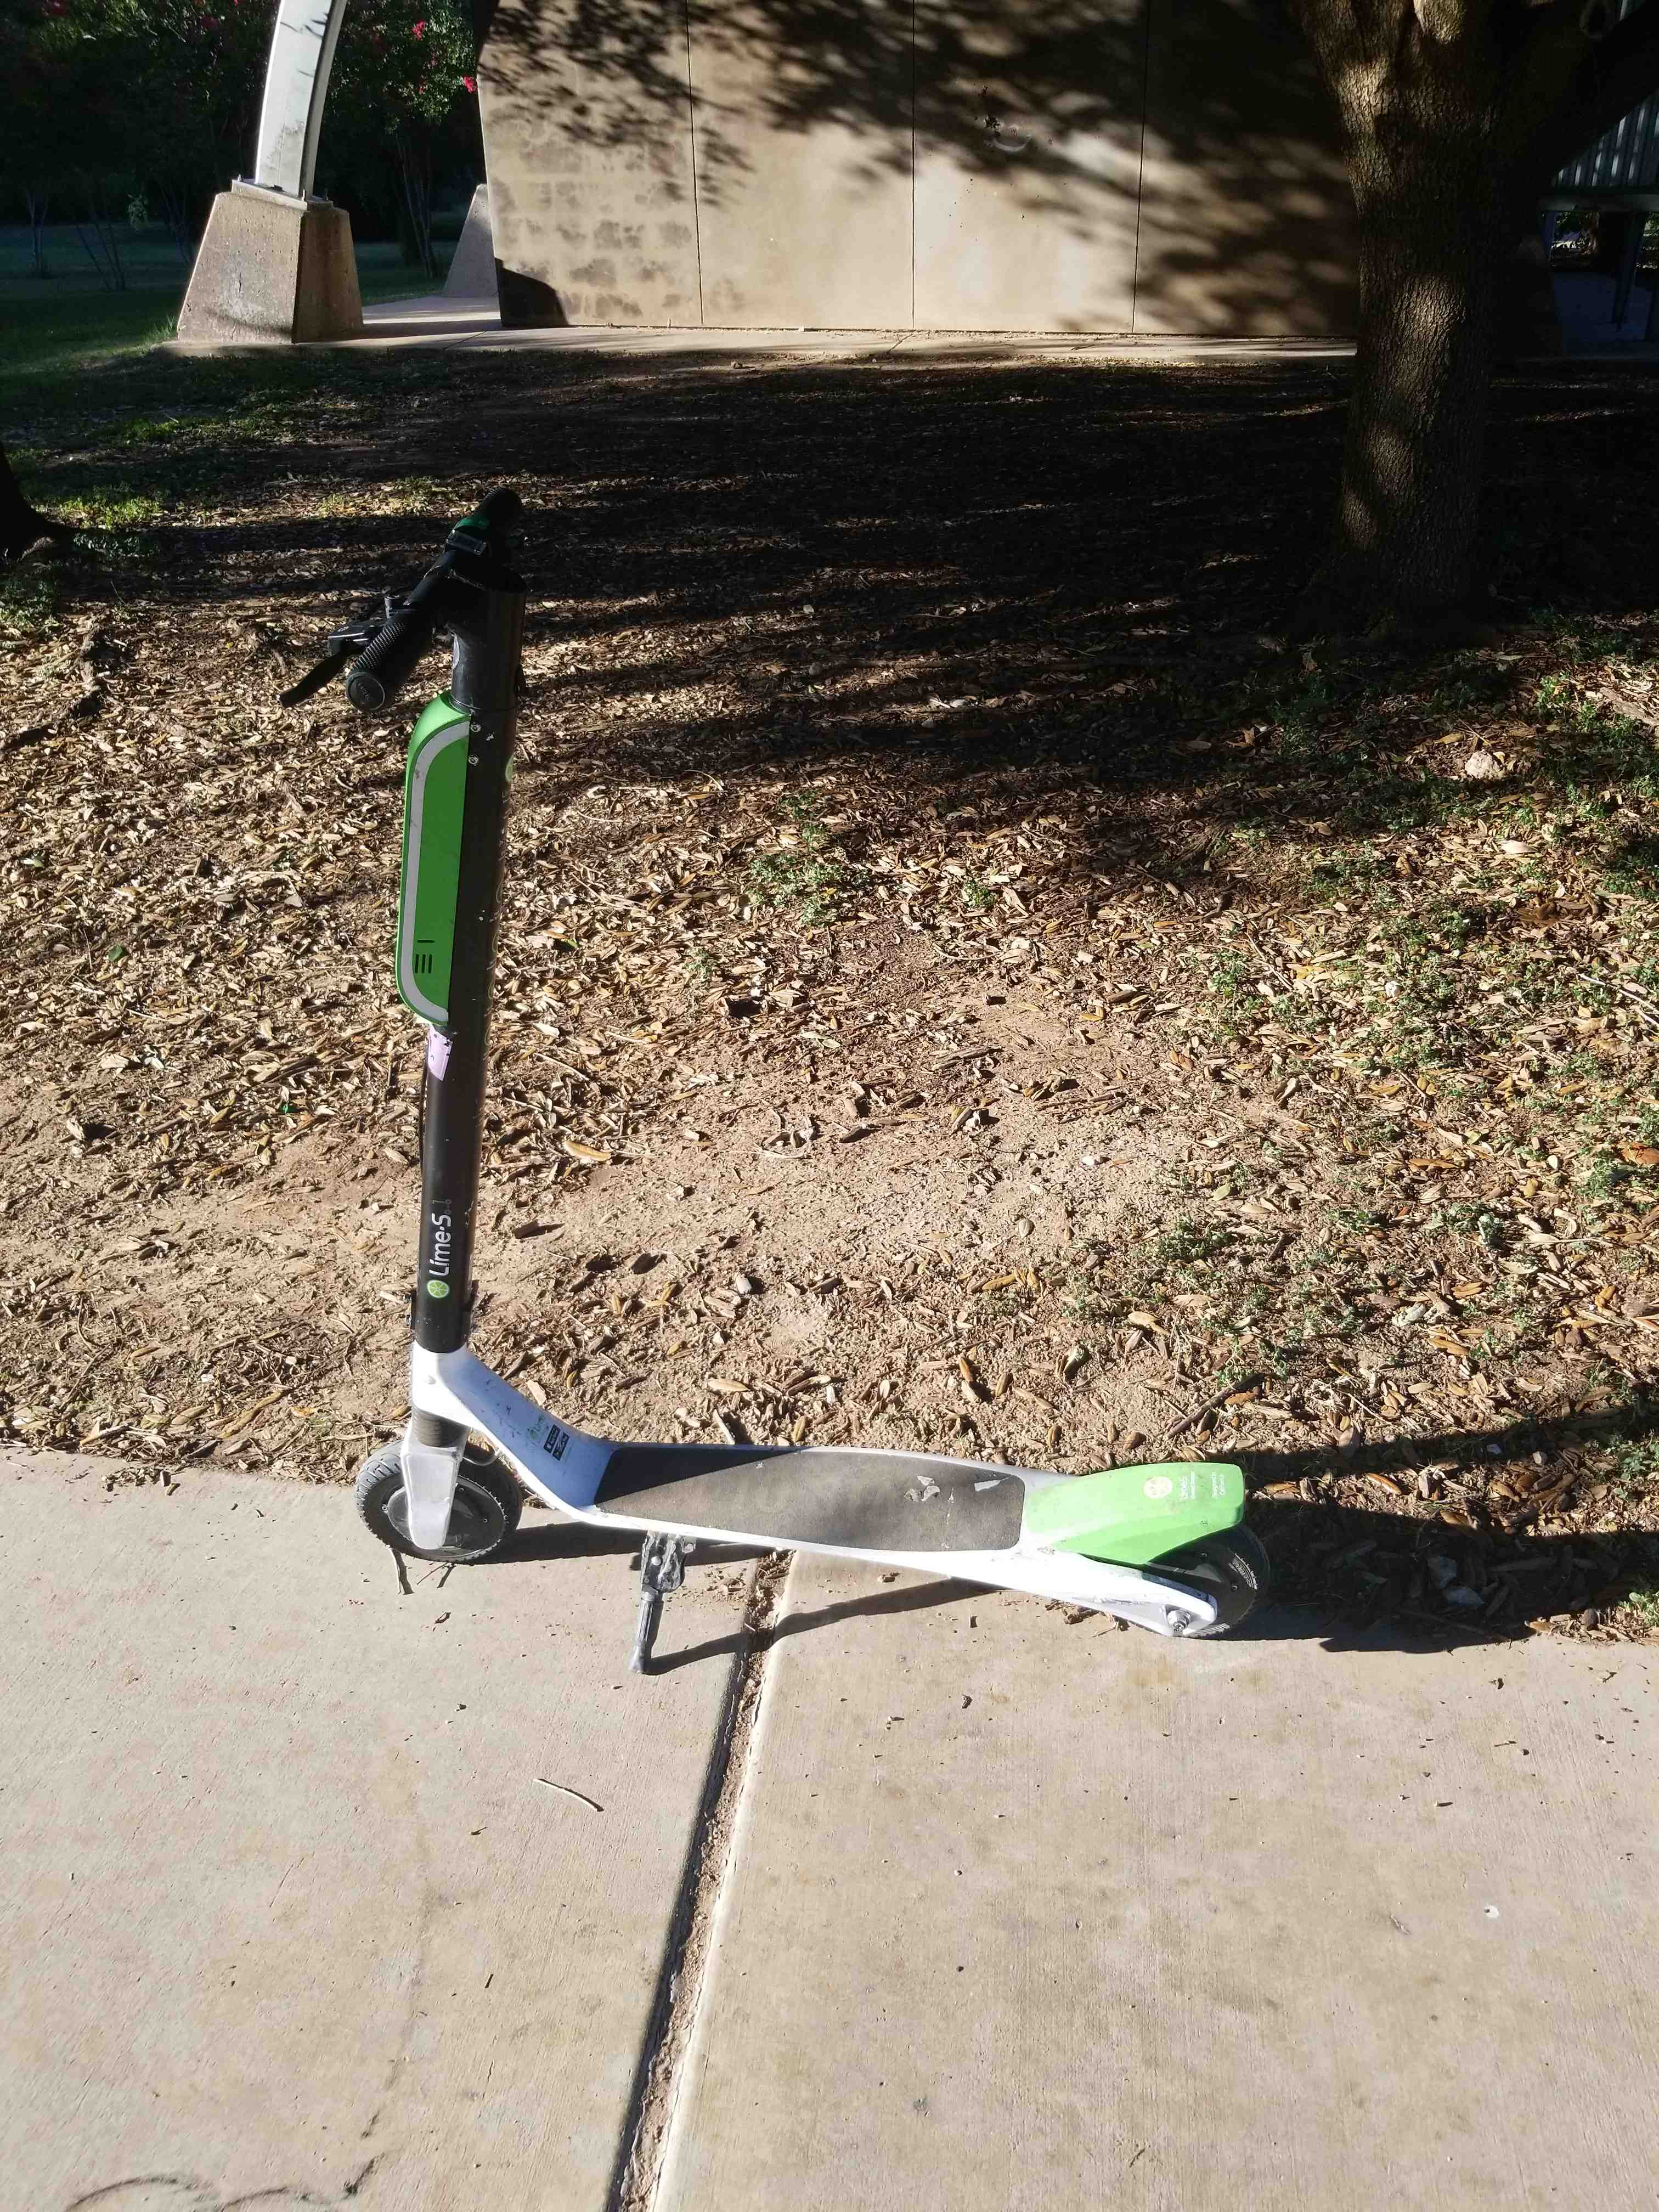scooter: (251, 404, 1330, 1679)
